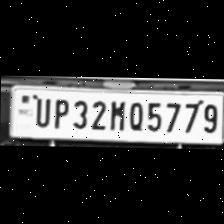2: (86, 96, 106, 129)
3: (68, 97, 88, 128)
5: (142, 97, 162, 132)
7: (178, 98, 198, 134), (160, 97, 180, 132)
9: (198, 99, 218, 134)
M: (105, 96, 127, 132)
P: (48, 96, 70, 127)
Q: (124, 99, 144, 130)
U: (30, 94, 50, 127)
